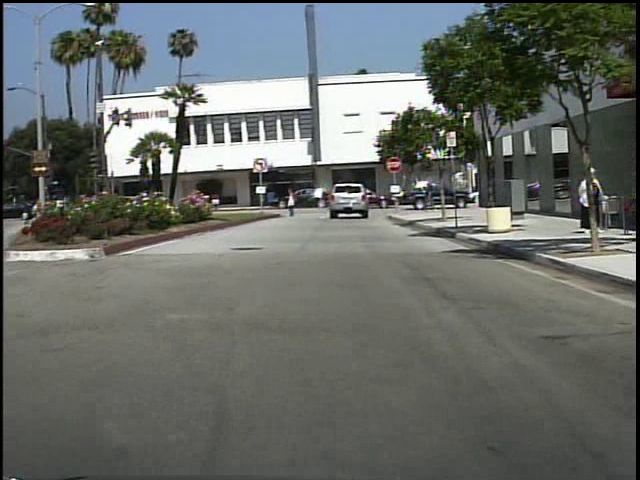person: (578, 169, 607, 236), (286, 184, 306, 219), (427, 181, 433, 214)
